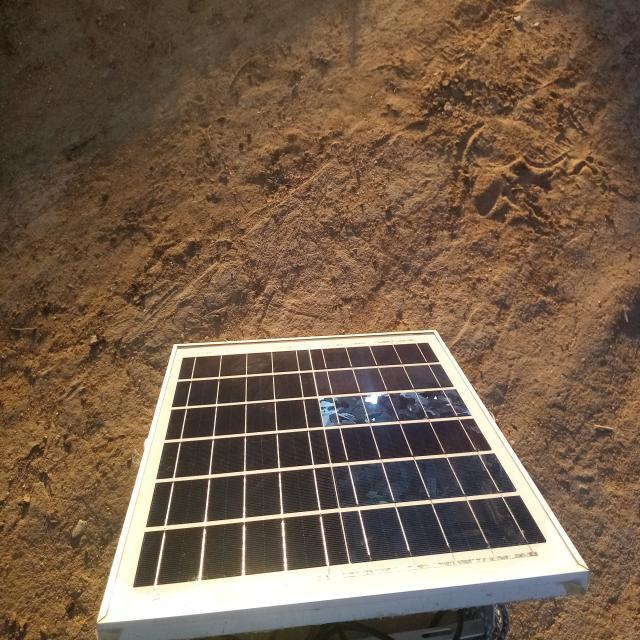no faulty: (98, 330, 582, 622)
